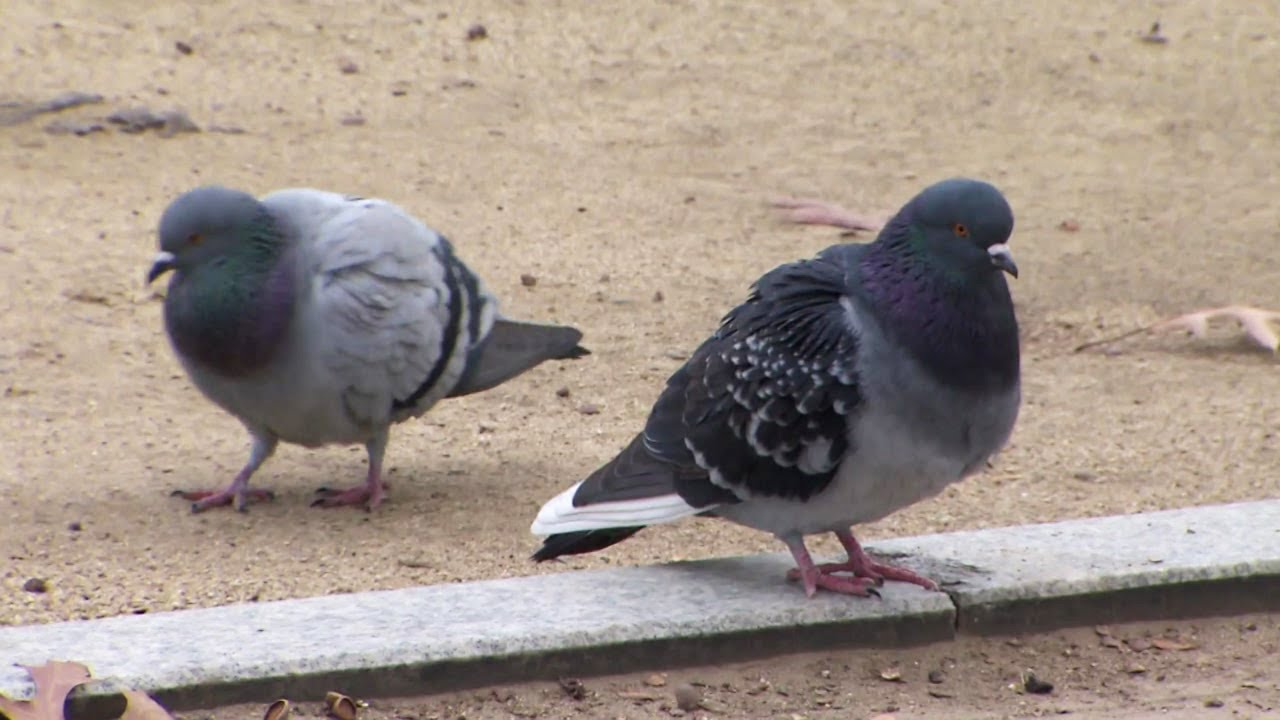pigeon: (526, 159, 1052, 613)
